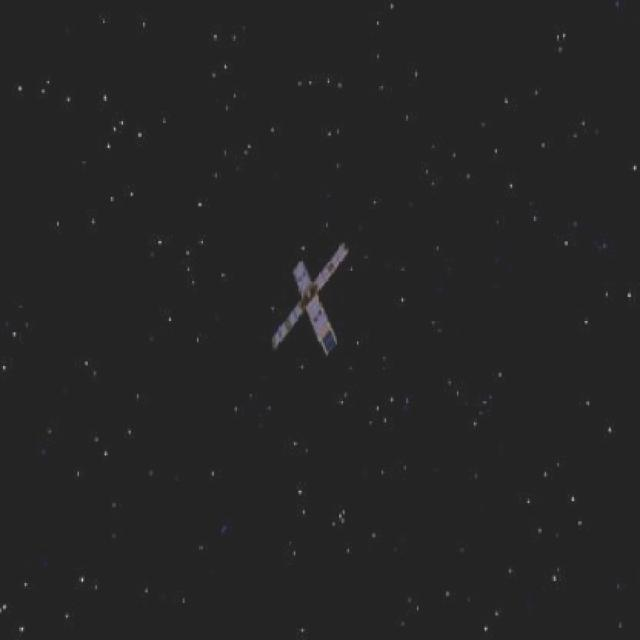satellite: (248, 233, 355, 365)
